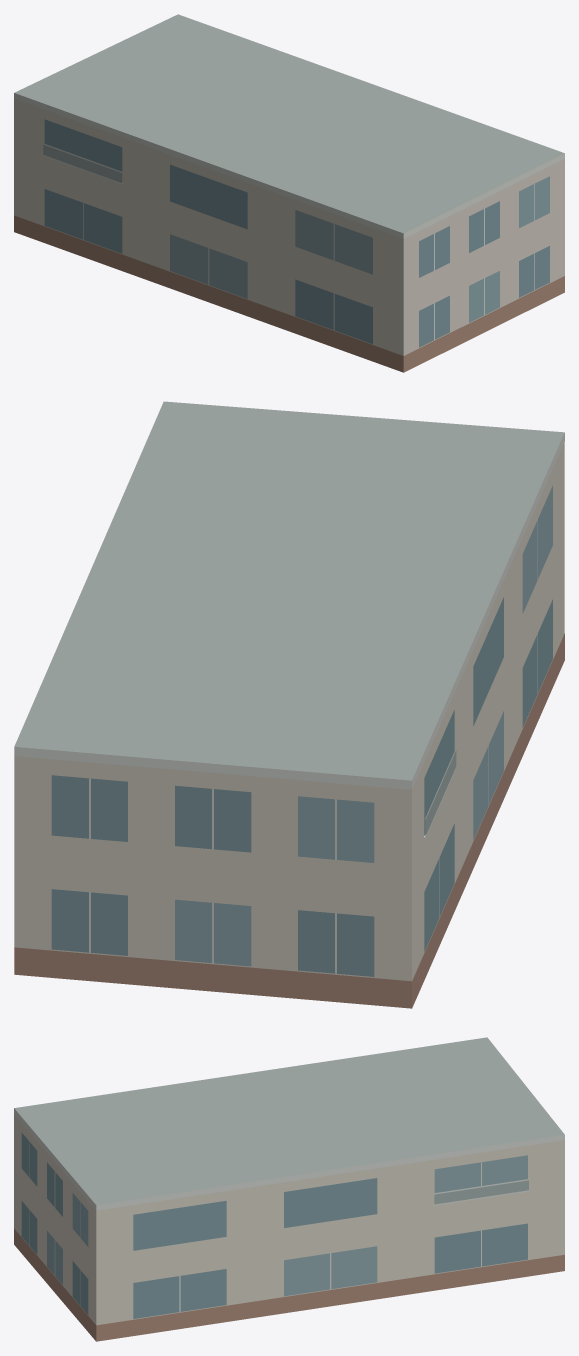
The model's file is survey-upis-32867632.glb.
3 views of the same model, one above another, from view 1: azimuth 30°, elevation 25°; view 2: azimuth 150°, elevation 25°; view 3: azimuth 270°, elevation 25° (orthographic). The views are drawn at different scales.
Visible parts, largest first — view 1: survey-upis-32867632.tmp; view 2: survey-upis-32867632.tmp; view 3: survey-upis-32867632.tmp.
Boxes of the visible parts, left/top/right/bottom form: survey-upis-32867632.tmp: left=14, top=14, right=564, bottom=372; survey-upis-32867632.tmp: left=14, top=401, right=564, bottom=1008; survey-upis-32867632.tmp: left=14, top=1037, right=564, bottom=1341.
Bounding box in the file's own units: 16.12 × 6.1 × 22.33.
